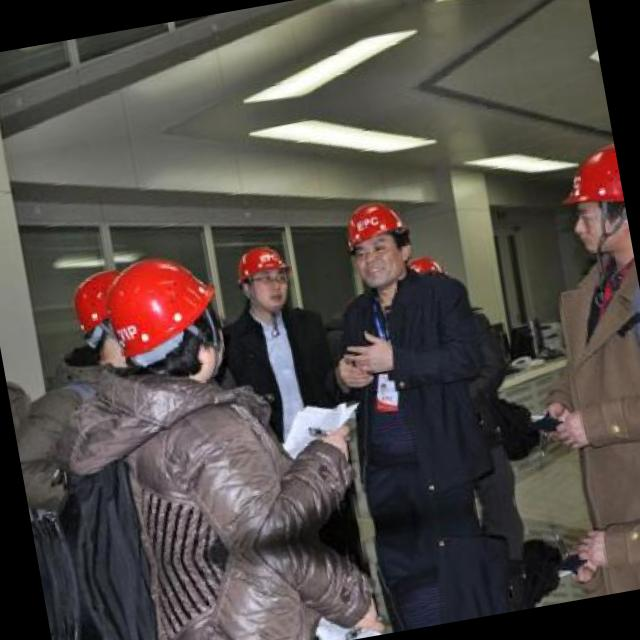helmet: (82, 245, 225, 385), (556, 141, 630, 269), (330, 189, 416, 292), (64, 264, 136, 374), (226, 233, 298, 315)
